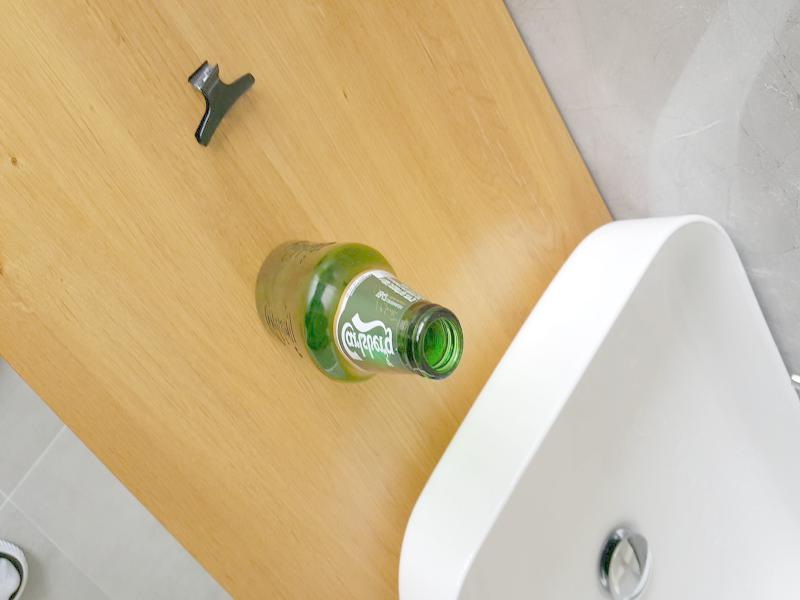Beer: (253, 242, 461, 380)
